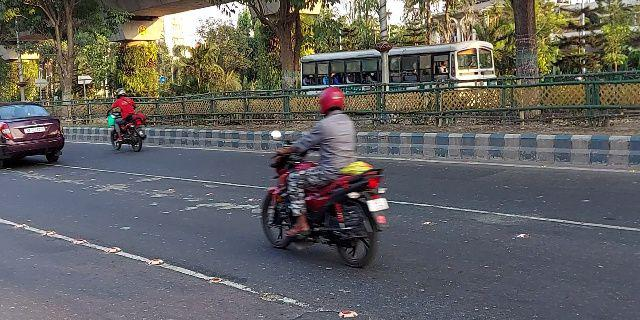Car: (1, 102, 67, 168)
Motorbike: (258, 83, 390, 273), (100, 86, 151, 159)
